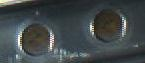joints: (88, 5, 129, 45), (16, 19, 56, 58)
